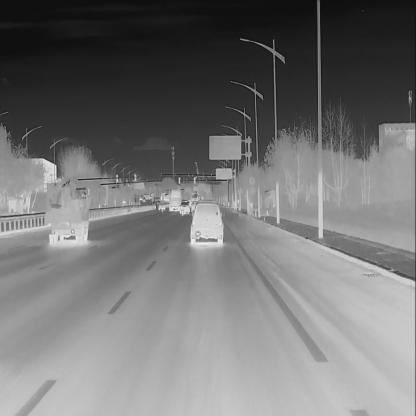car: (188, 198, 224, 245), (178, 198, 190, 214), (156, 200, 166, 212), (190, 200, 198, 212), (142, 197, 146, 202)
truck: (46, 181, 96, 245), (168, 187, 182, 212), (190, 191, 200, 206)
